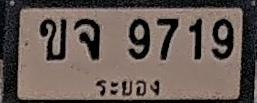1: (189, 18, 202, 59)
7: (157, 18, 178, 60)
9: (128, 18, 149, 59), (212, 18, 233, 59)
A02: (39, 18, 66, 60)
A08: (74, 18, 100, 60)
RYG: (92, 72, 163, 99)
